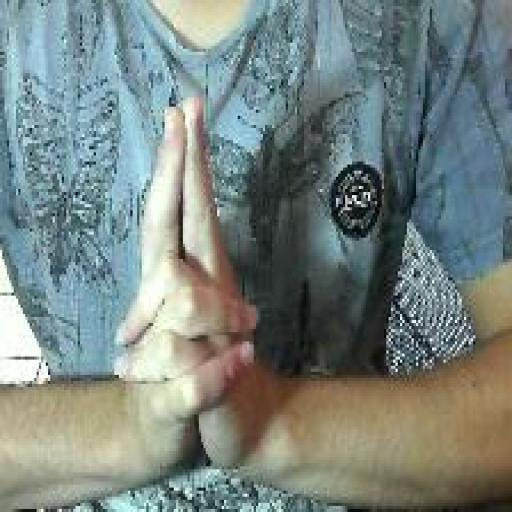Tora -tiger-: (108, 90, 262, 489)
